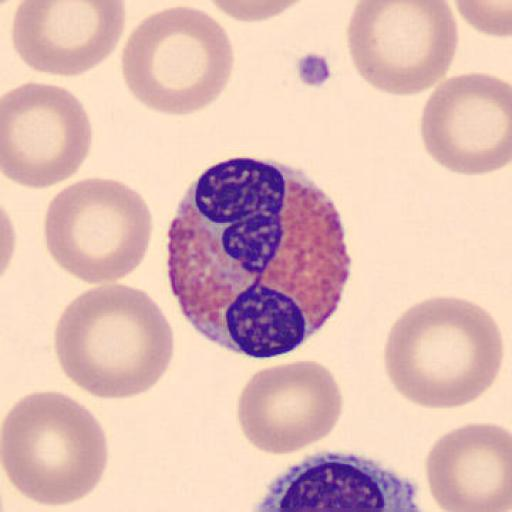RBC: (53, 282, 176, 402), (381, 294, 505, 410), (120, 3, 236, 117), (0, 388, 110, 508), (43, 177, 155, 284), (345, 1, 460, 98), (236, 358, 346, 456), (2, 79, 93, 190), (418, 70, 512, 176), (11, 1, 128, 78), (424, 420, 512, 512), (205, 0, 313, 23), (452, 0, 511, 39), (0, 201, 18, 280)
WBC: (164, 155, 352, 360), (244, 448, 430, 511)
